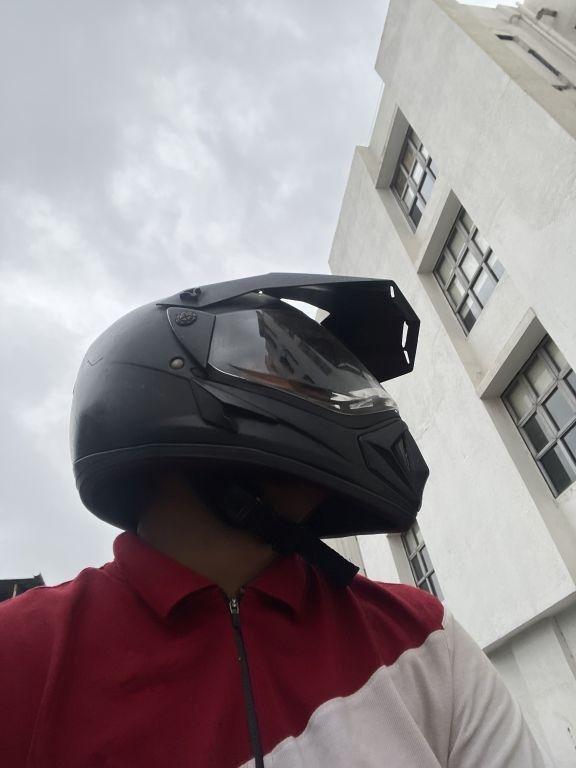helmet: (52, 255, 440, 555)
